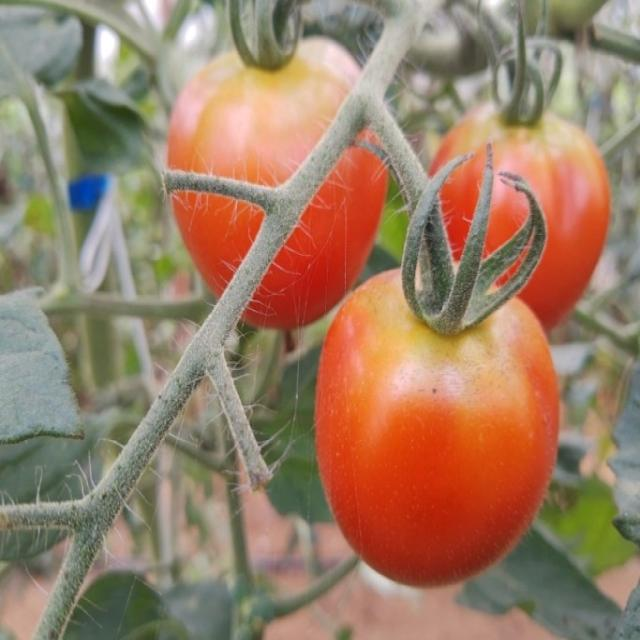level 5: (295, 246, 583, 604), (148, 24, 396, 332), (420, 73, 616, 331)
